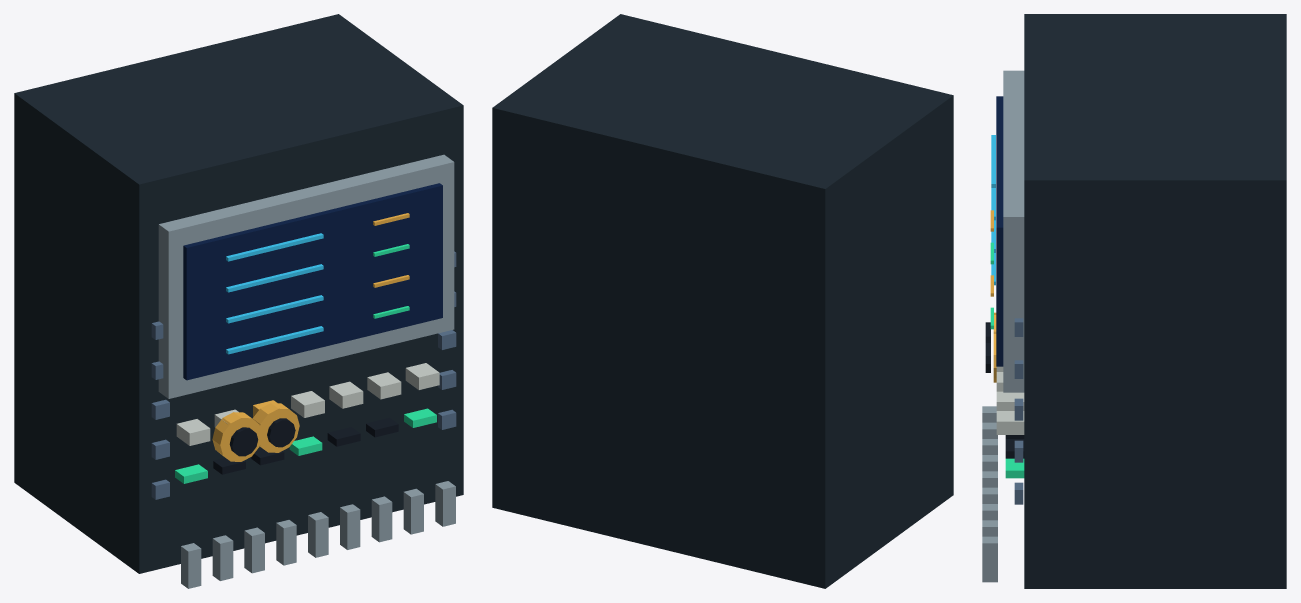
The model's file is 58_L84_ActivePointingVibrationFilter.fbx.
The picture shows the model from 3 angles, left to right: view 1: azimuth 30°, elevation 25°; view 2: azimuth 150°, elevation 25°; view 3: azimuth 270°, elevation 25°; orthographic projection. The views are drawn at different scales.
Parts seen in each view (by area): view 1: L84_ActivePointingVibrationFilter, L84_ActivePointingVibrationFilter_Part_0010, L84_ActivePointingVibrationFilter_Part_0012, L84_ActivePointingVibrationFilter_Part_0011, L84_ActivePointingVibrationFilter_Part_0013; view 2: L84_ActivePointingVibrationFilter; view 3: L84_ActivePointingVibrationFilter.
Boxes of the visible parts, x1,y1,x2,y2 form: L84_ActivePointingVibrationFilter: (14,14,463,588); L84_ActivePointingVibrationFilter_Part_0010: (212,412,262,461); L84_ActivePointingVibrationFilter_Part_0012: (252,403,299,452); L84_ActivePointingVibrationFilter_Part_0011: (229,427,258,456); L84_ActivePointingVibrationFilter_Part_0013: (267,418,295,447); L84_ActivePointingVibrationFilter: (492,14,953,588); L84_ActivePointingVibrationFilter: (982,14,1286,588).
Bounding box in the file's own units: 99.96 × 117 × 77.32.
